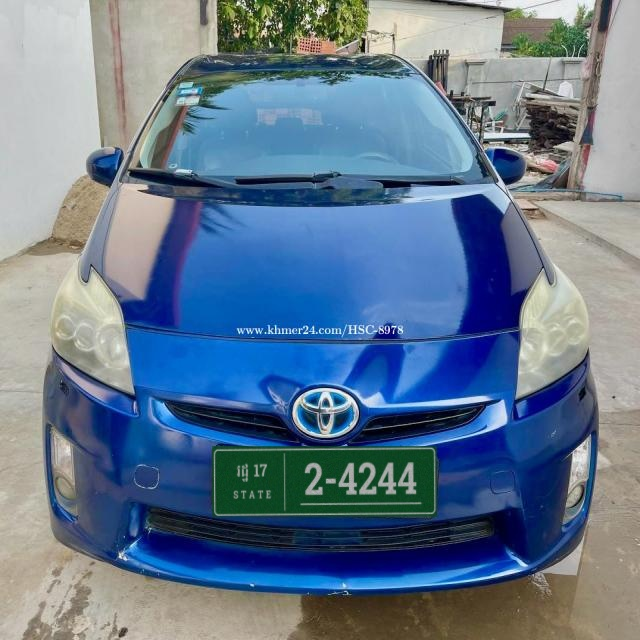Plate Number: (212, 447, 438, 517)
